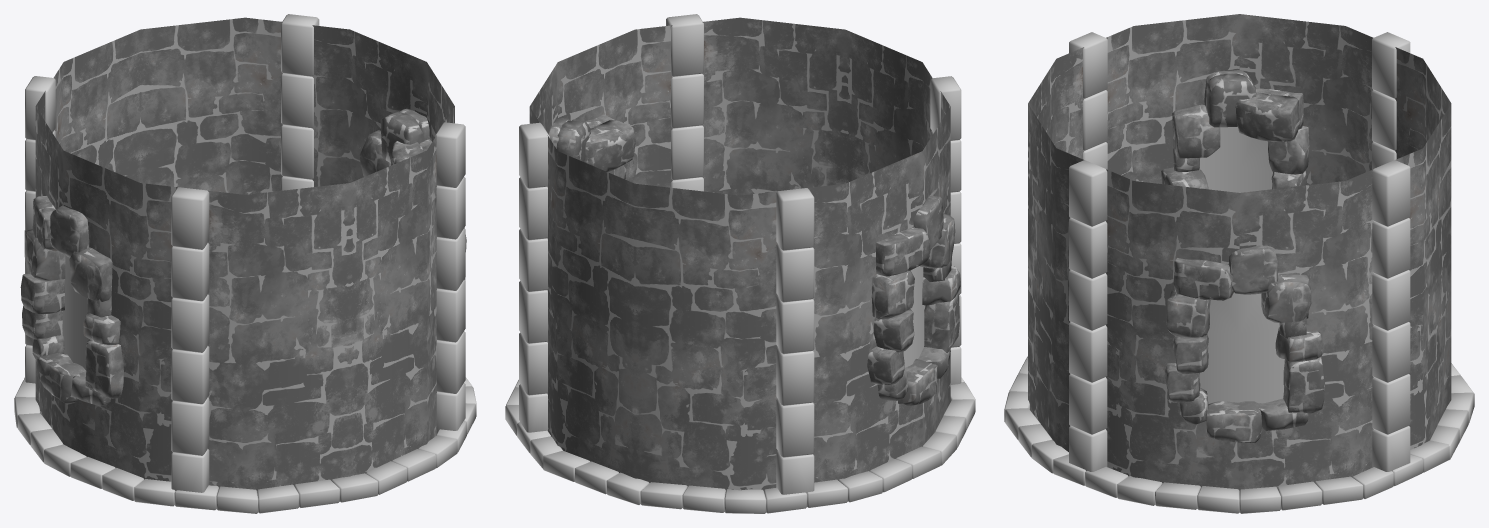
File: Tower_Wall_Mid_Window_01.fbx
3 views of the same model, side by side, from view 1: azimuth 30°, elevation 25°; view 2: azimuth 150°, elevation 25°; view 3: azimuth 270°, elevation 25° (orthographic).
Visible parts, largest first — view 1: Tower_Wall_Mid_01, rock_1.067; view 2: Tower_Wall_Mid_01, rock_1.067; view 3: Tower_Wall_Mid_01, rock_1.067.
Boxes of the visible parts, x1,y1,x2,y2 form: Tower_Wall_Mid_01: (14,14,476,513); rock_1.067: (20,108,466,406); Tower_Wall_Mid_01: (505,14,975,513); rock_1.067: (549,114,960,406); Tower_Wall_Mid_01: (1004,14,1474,513); rock_1.067: (1161,69,1324,443).
Size of the model in its own units: 6.83 by 5 by 6.83.
